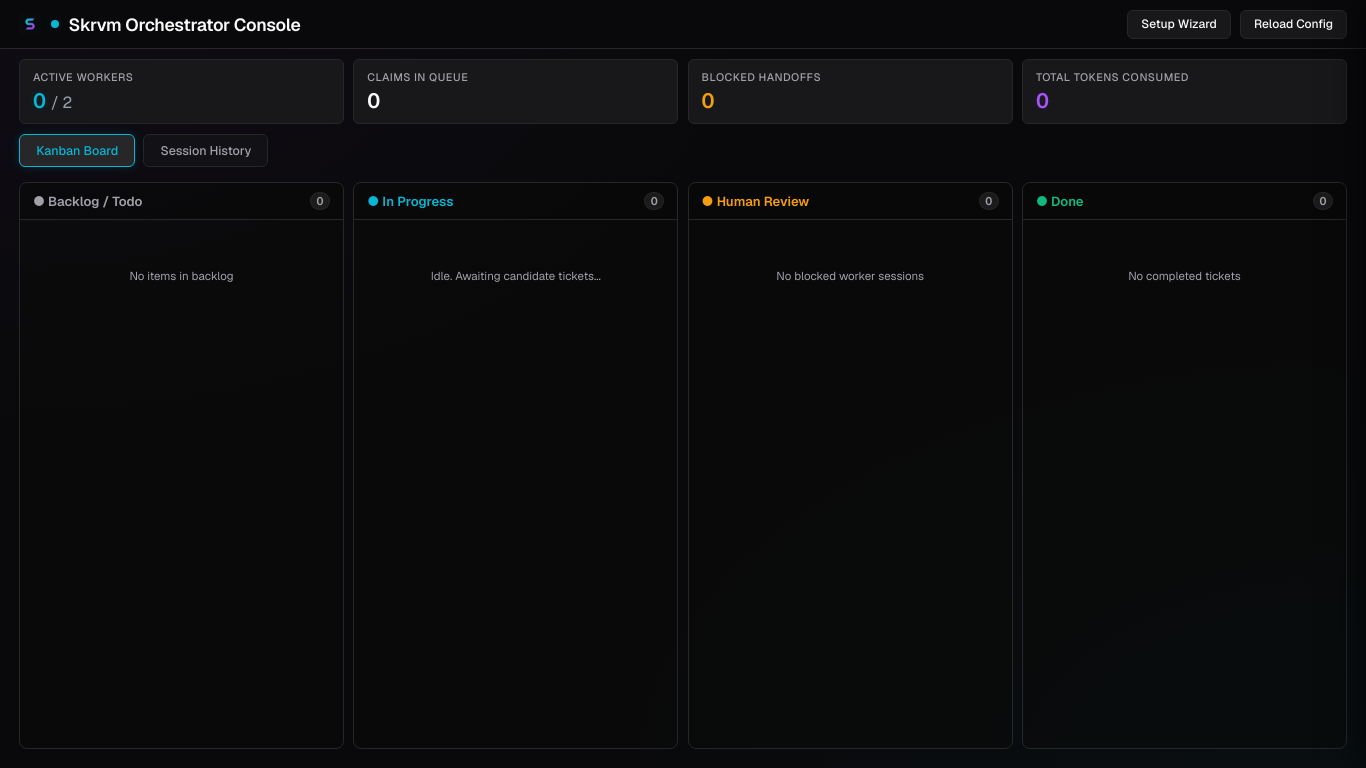
Skrvm Frontend React App › should open the guided setup wizard and drive team-profile scoping defaults
Note: Open the wizard
Click the button "Setup Wizard". click: (1179, 24)
box: 1127,10 -> 1231,39
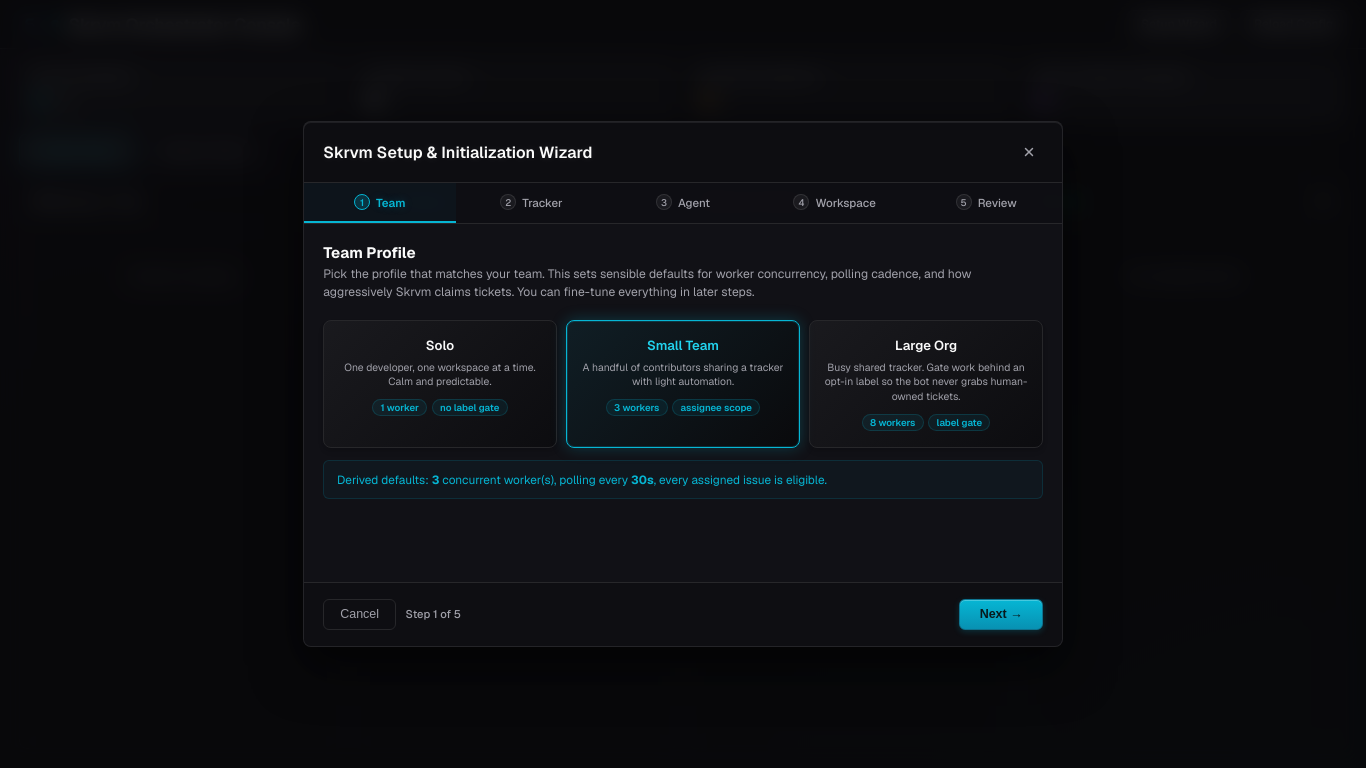
Check: the text "Team Profile" is shown, box 323,243 -> 416,262
Check: the text "Solo" is shown, box 426,337 -> 454,354
Check: the text "Large Org" is shown
Note: Selecting the Large Org profile recommends the opt-in label gate
Click the text "Large Org". click: (926, 346)
box: 895,337 -> 957,354
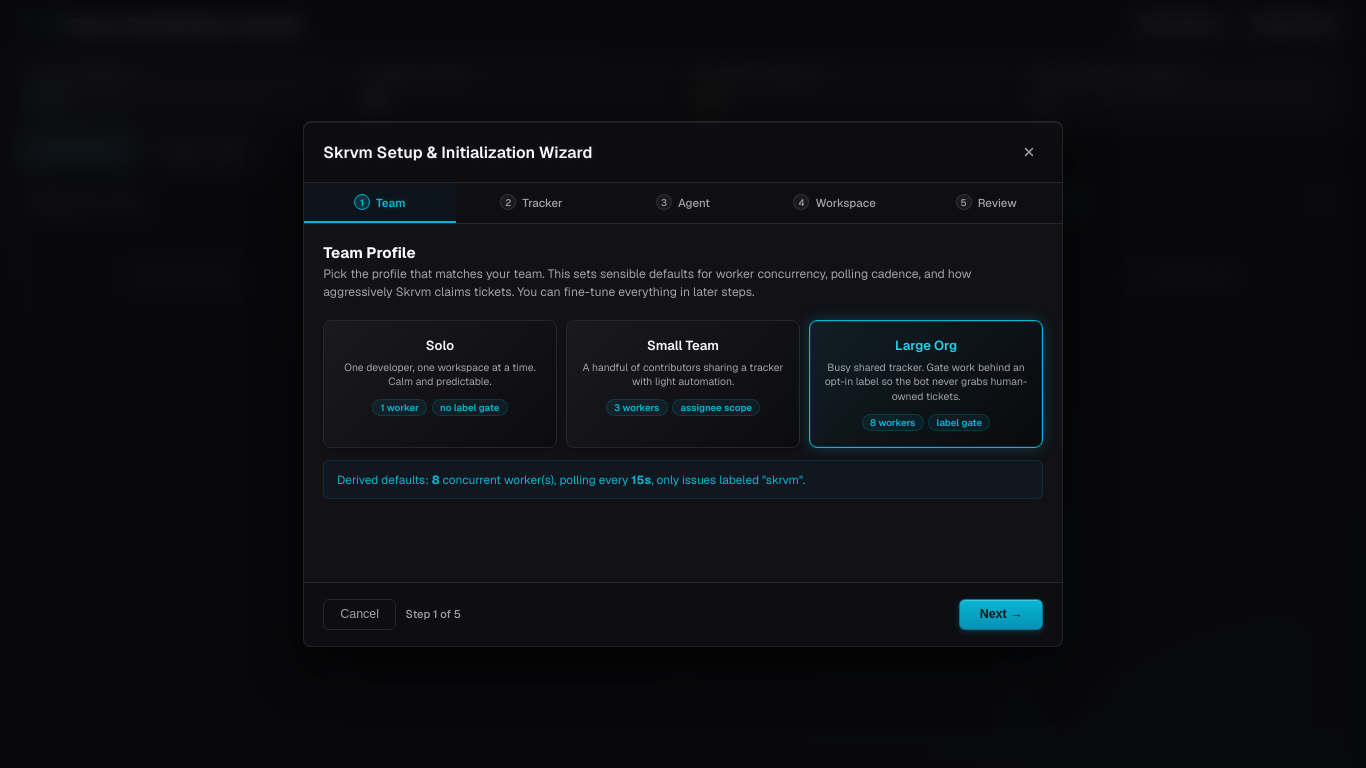
Note: Advance to the Tracker step and confirm the required-labels gate field exists
Click the button "Next →". click: (1001, 614)
box: 960,599 -> 1043,630
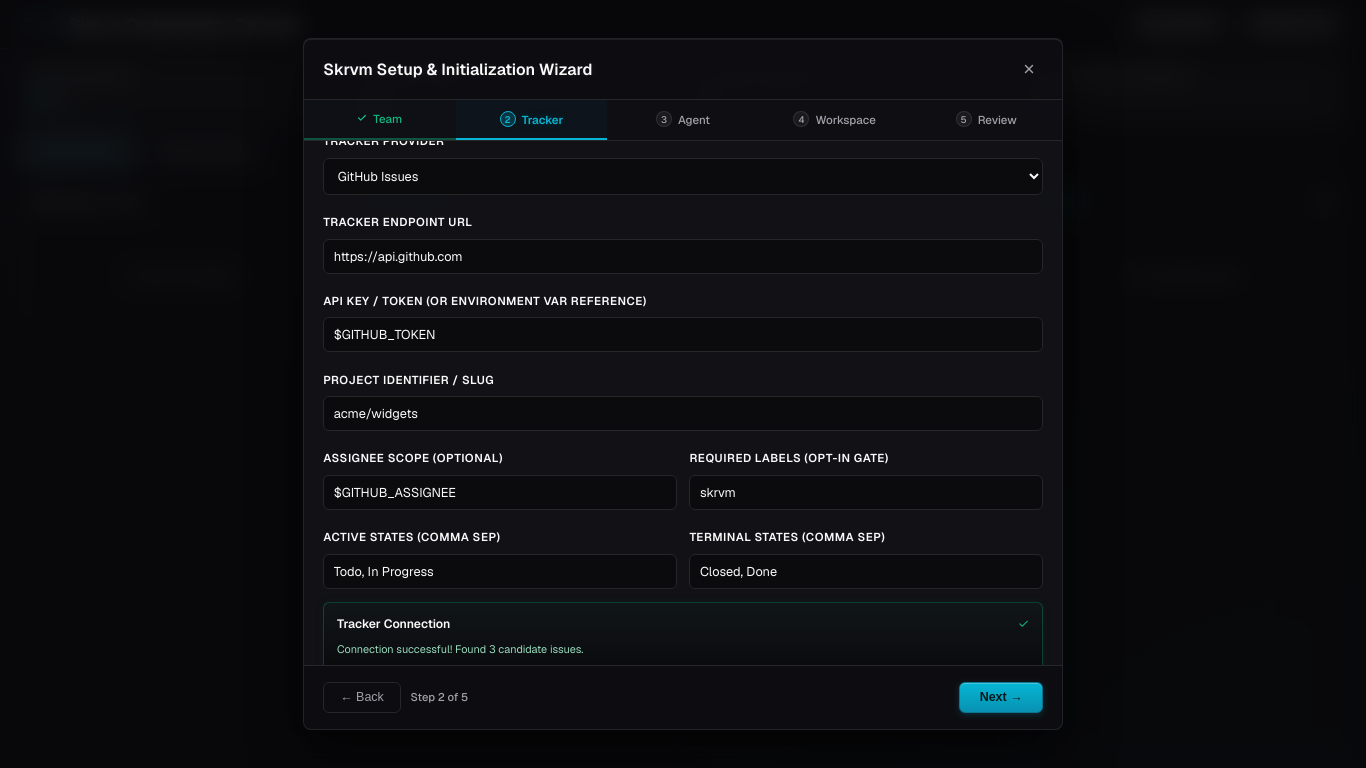
Check: the field with placeholder "e.g. skrvm, automate" below "Required Labels (opt-in gate)" holds "skrvm", box 689,475 -> 1043,510
